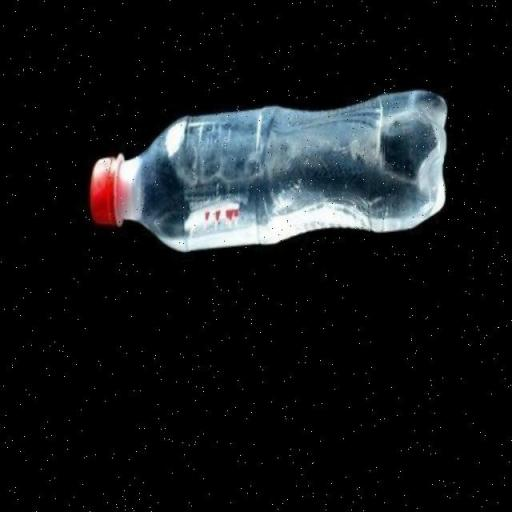plastic: (82, 65, 456, 275)
